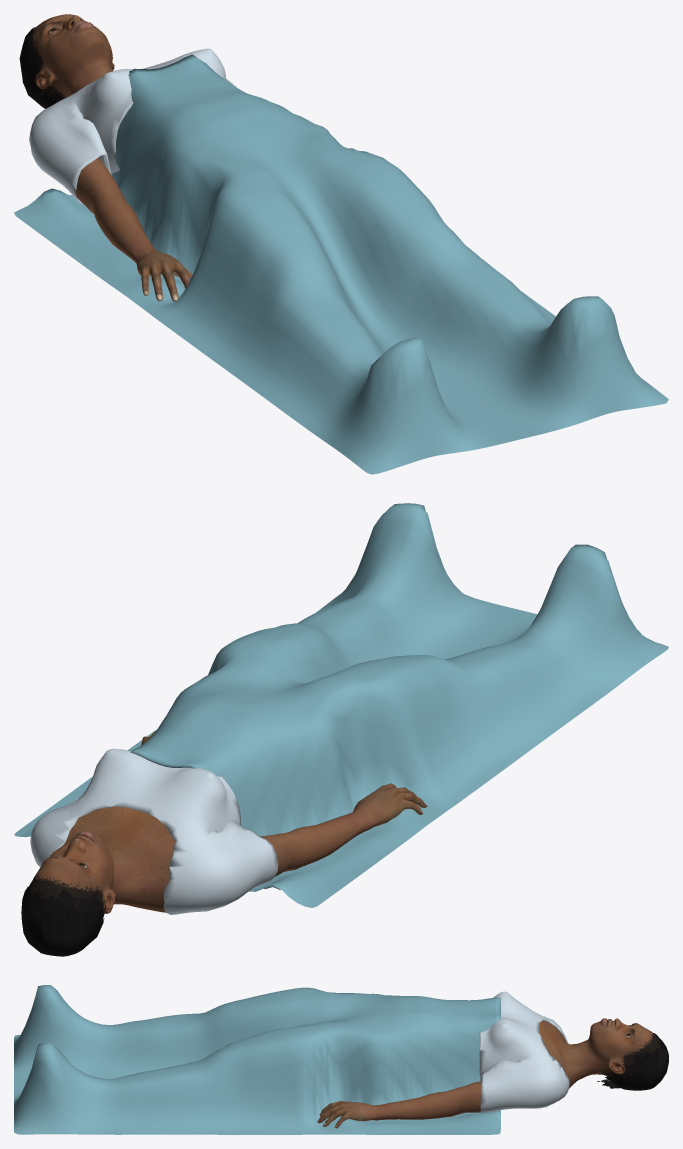
The picture shows the model from 3 angles, top to bottom: view 1: azimuth 30°, elevation 25°; view 2: azimuth 150°, elevation 25°; view 3: azimuth 270°, elevation 25°; orthographic projection. The views are drawn at different scales.
Parts seen in each view (by area): view 1: sheet, gown, arms, body, hair; view 2: sheet, gown, body, arms, hair; view 3: sheet, gown, body, arms, hair.
Part boxes in pixels (left/top/right/bottom): sheet: left=14, top=54, right=668, bottom=474; gown: left=29, top=48, right=236, bottom=204; arms: left=75, top=157, right=192, bottom=301; body: left=25, top=14, right=114, bottom=102; hair: left=19, top=27, right=56, bottom=108; sheet: left=14, top=503, right=668, bottom=907; gown: left=30, top=748, right=278, bottom=914; body: left=25, top=806, right=175, bottom=950; arms: left=141, top=731, right=427, bottom=876; hair: left=21, top=883, right=104, bottom=956; sheet: left=14, top=985, right=500, bottom=1134; gown: left=479, top=991, right=569, bottom=1112; body: left=539, top=1018, right=661, bottom=1090; arms: left=317, top=1081, right=480, bottom=1128; hair: left=597, top=1033, right=668, bottom=1090.
Bounding box in the file's own units: 0.6406 × 0.2382 × 1.78.
8 materials, 6 textured.
